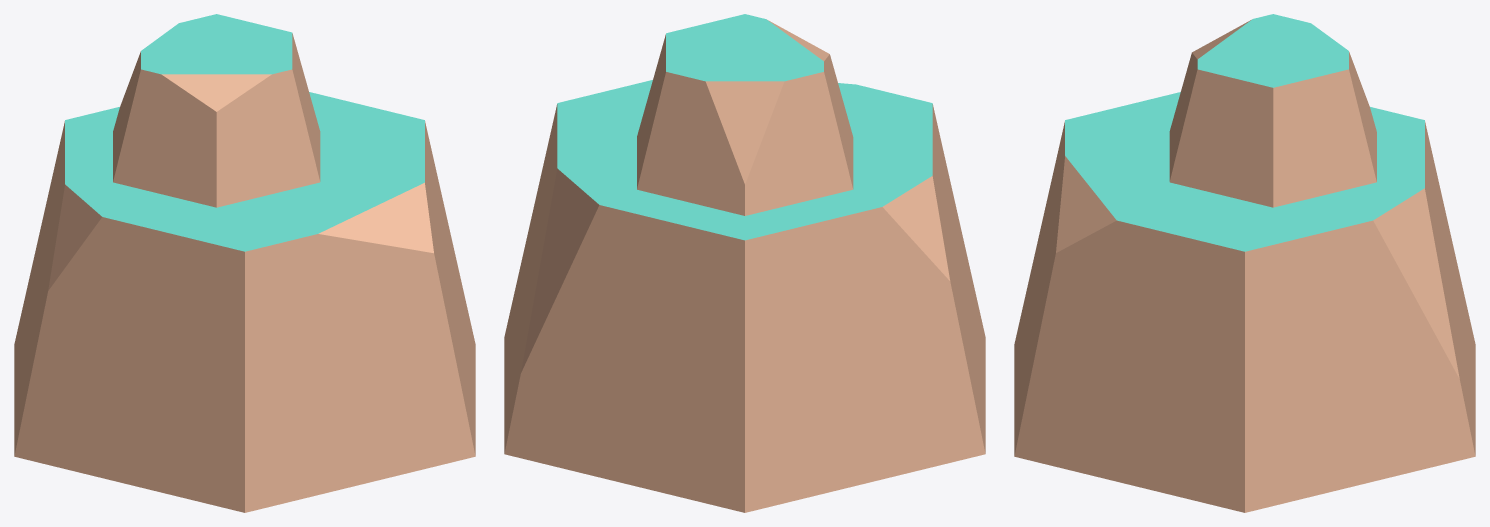
The model's file is rock_smallE.glb.
3 views of the same model, side by side, from view 1: azimuth 30°, elevation 25°; view 2: azimuth 150°, elevation 25°; view 3: azimuth 270°, elevation 25° (orthographic). The views are drawn at different scales.
Parts seen in each view (by area): view 1: rock_smallE; view 2: rock_smallE; view 3: rock_smallE.
Part boxes in pixels (x1,y1,x2,y2): rock_smallE: (14, 14, 475, 512); rock_smallE: (504, 14, 985, 512); rock_smallE: (1014, 14, 1475, 512).
Size of the model in its own units: 0.3608 by 0.2562 by 0.3125.
